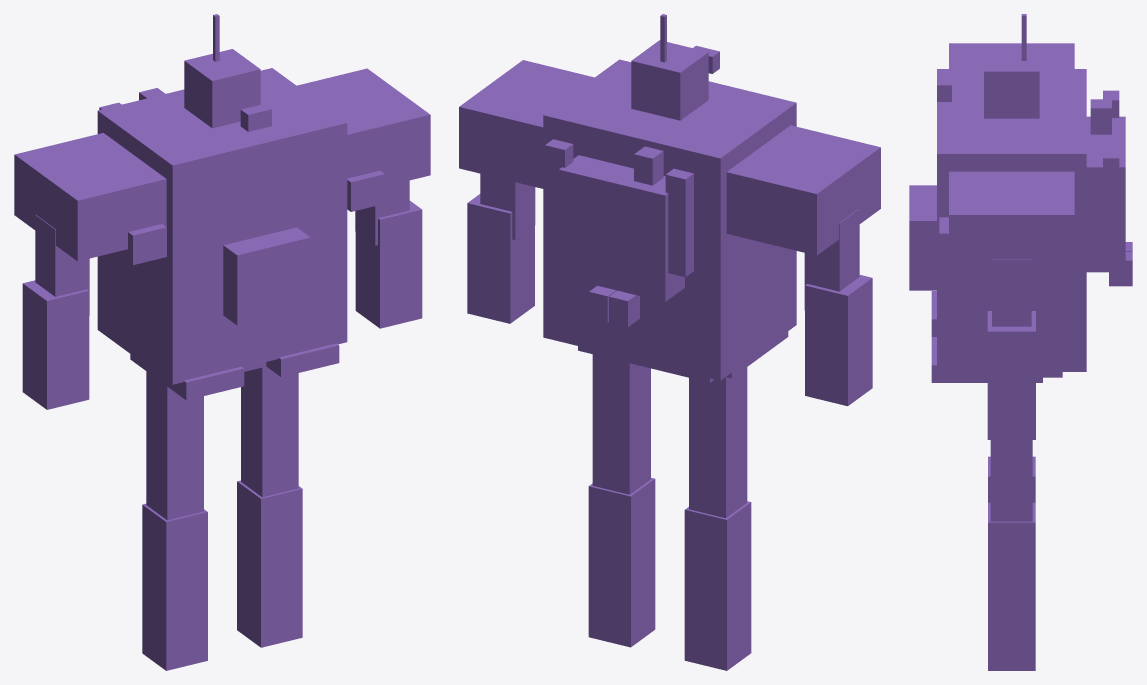
Rendered from mechfall_monarch.obj.
3 renders of one model, left to right at view 1: azimuth 30°, elevation 25°; view 2: azimuth 150°, elevation 25°; view 3: azimuth 270°, elevation 25°, orthographic.
Visible parts, largest first — view 1: mechfall_monarch; view 2: mechfall_monarch; view 3: mechfall_monarch.
Boxes of the visible parts, x1,y1,x2,y2 form: mechfall_monarch: [14, 14, 430, 670]; mechfall_monarch: [459, 14, 880, 670]; mechfall_monarch: [909, 14, 1132, 670].
Bounding box in the file's own units: 5.3 × 8.45 × 2.75.
